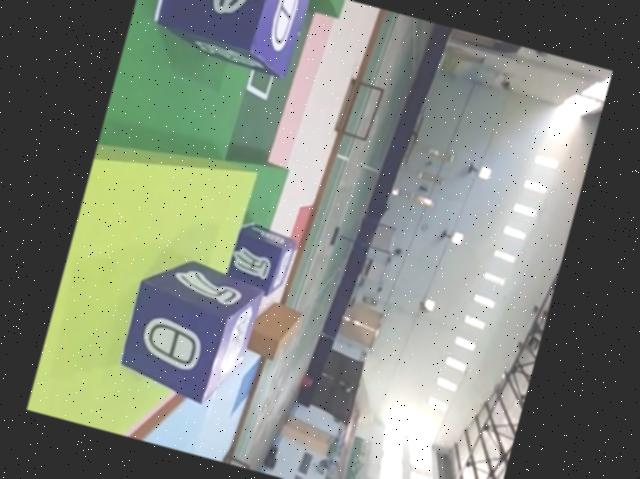R2 Fake Blue: (113, 247, 267, 409), (142, 0, 310, 77), (223, 216, 301, 299)
